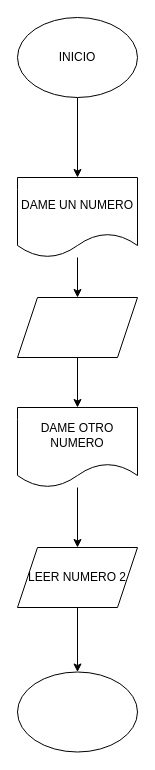
This 155x770 diagram has some shape labels left out. The shapes that lost their labels are listed below. From the top down, each one's centre as x and y in pixels, then its label:
point 77,327: LEER NUMERO 1
point 77,711: FIN
